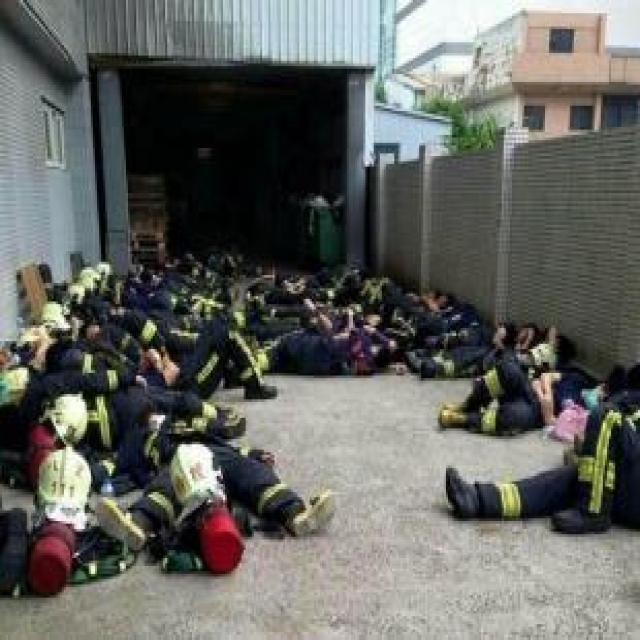10-: (2, 212, 638, 552)
